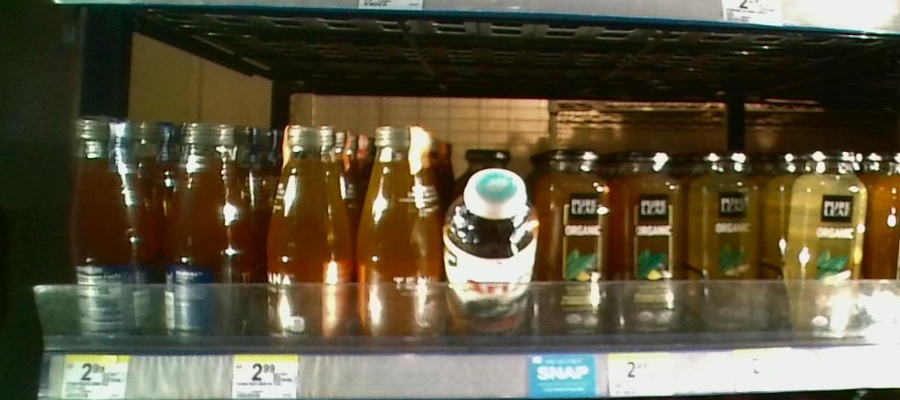bottle: (62, 111, 162, 345), (353, 110, 442, 350), (265, 120, 351, 352), (165, 110, 249, 346), (450, 165, 539, 343), (687, 147, 767, 333), (788, 145, 863, 343), (542, 145, 612, 336), (617, 148, 684, 341), (866, 146, 900, 338)
